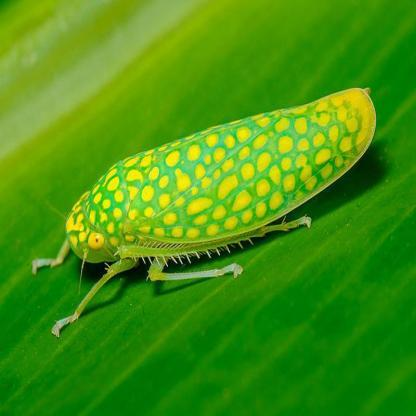green-leafhopper: (63, 90, 376, 288)
